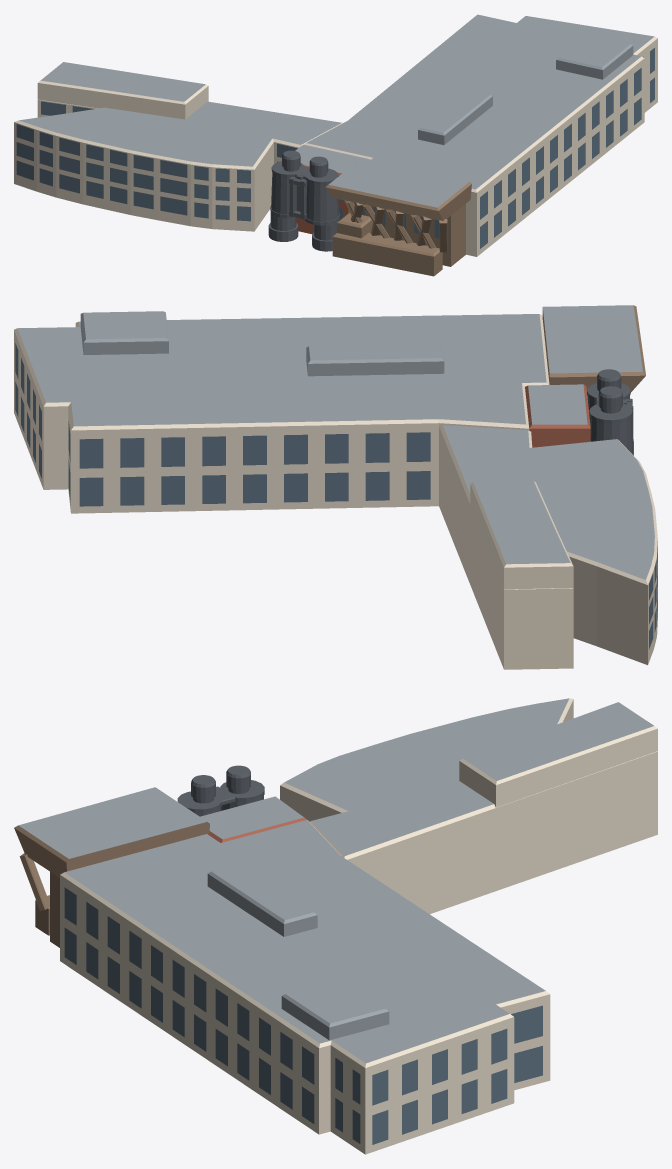
File: detail.glb
The picture shows the model from 3 angles, top to bottom: view 1: azimuth 30°, elevation 25°; view 2: azimuth 150°, elevation 25°; view 3: azimuth 270°, elevation 25°; orthographic projection. The views are drawn at different scales.
Parts seen in each view (by area): view 1: chiat-day-building; view 2: chiat-day-building; view 3: chiat-day-building.
Part boxes in pixels (x1,y1,x2,y2): chiat-day-building: [14, 14, 657, 276]; chiat-day-building: [14, 305, 657, 669]; chiat-day-building: [14, 698, 657, 1154].
Size of the model in its own units: 99.31 by 14 by 72.58.
